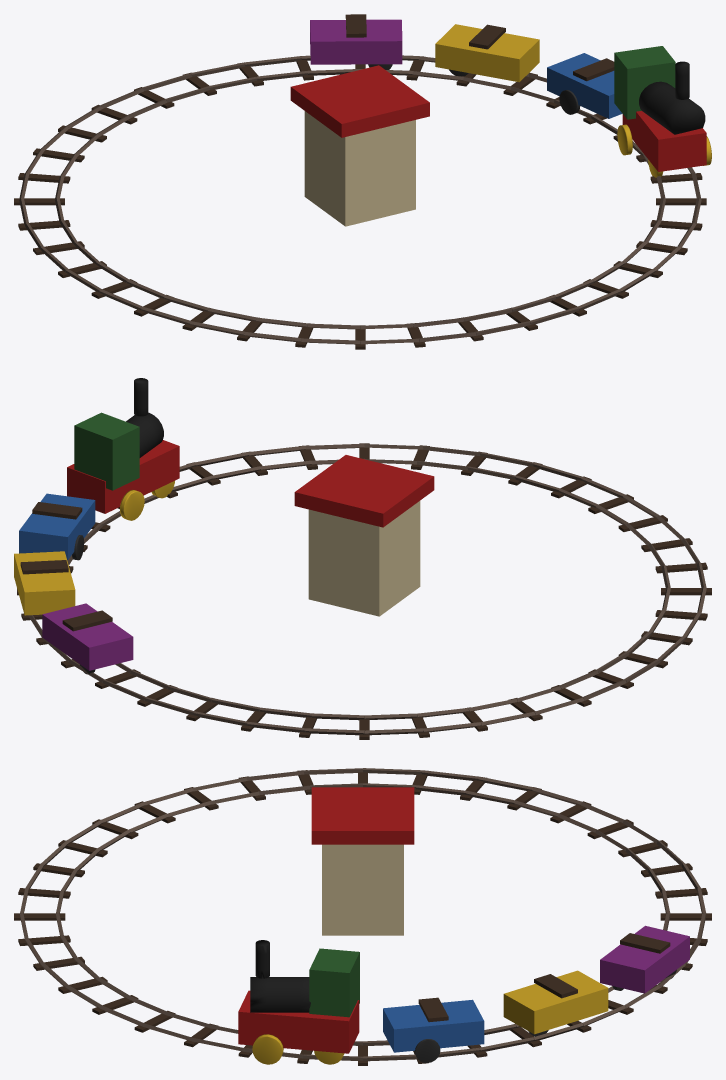
File: trenzinho.glb
The picture shows the model from 3 angles, top to bottom: view 1: azimuth 30°, elevation 25°; view 2: azimuth 150°, elevation 25°; view 3: azimuth 270°, elevation 25°; orthographic projection.
Parts seen in each view (by area): view 1: obj_519; view 2: obj_519; view 3: obj_519.
Boxes of the visible parts, box(x1,y1,x2,y2) form: obj_519: box(14, 14, 711, 349); obj_519: box(14, 378, 711, 739); obj_519: box(14, 768, 711, 1065).
Size of the model in its own units: 13.68 by 2.35 by 13.6.
Materials: 1 (1 with a texture image).
